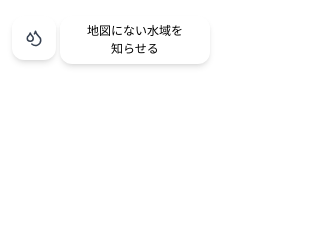
Test: 水域から選択・調査・情報提供 › OSMが0件でもcommunity読込失敗を完全な水域なしと表示しない
The image size is (320, 249).
Click the button named "近くの水域を探す" at (34, 38), box [12,16,56,60]
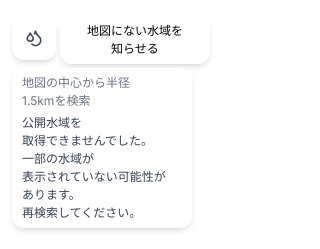
Expected: the button "地図にない水域を知らせる" is enabled, [60,16,210,64]
Result: the text "公開水域を取得できませんでした。一部の水域が表示されていない可能性があります。再検索してください。" is shown at [22,114,182,222]
